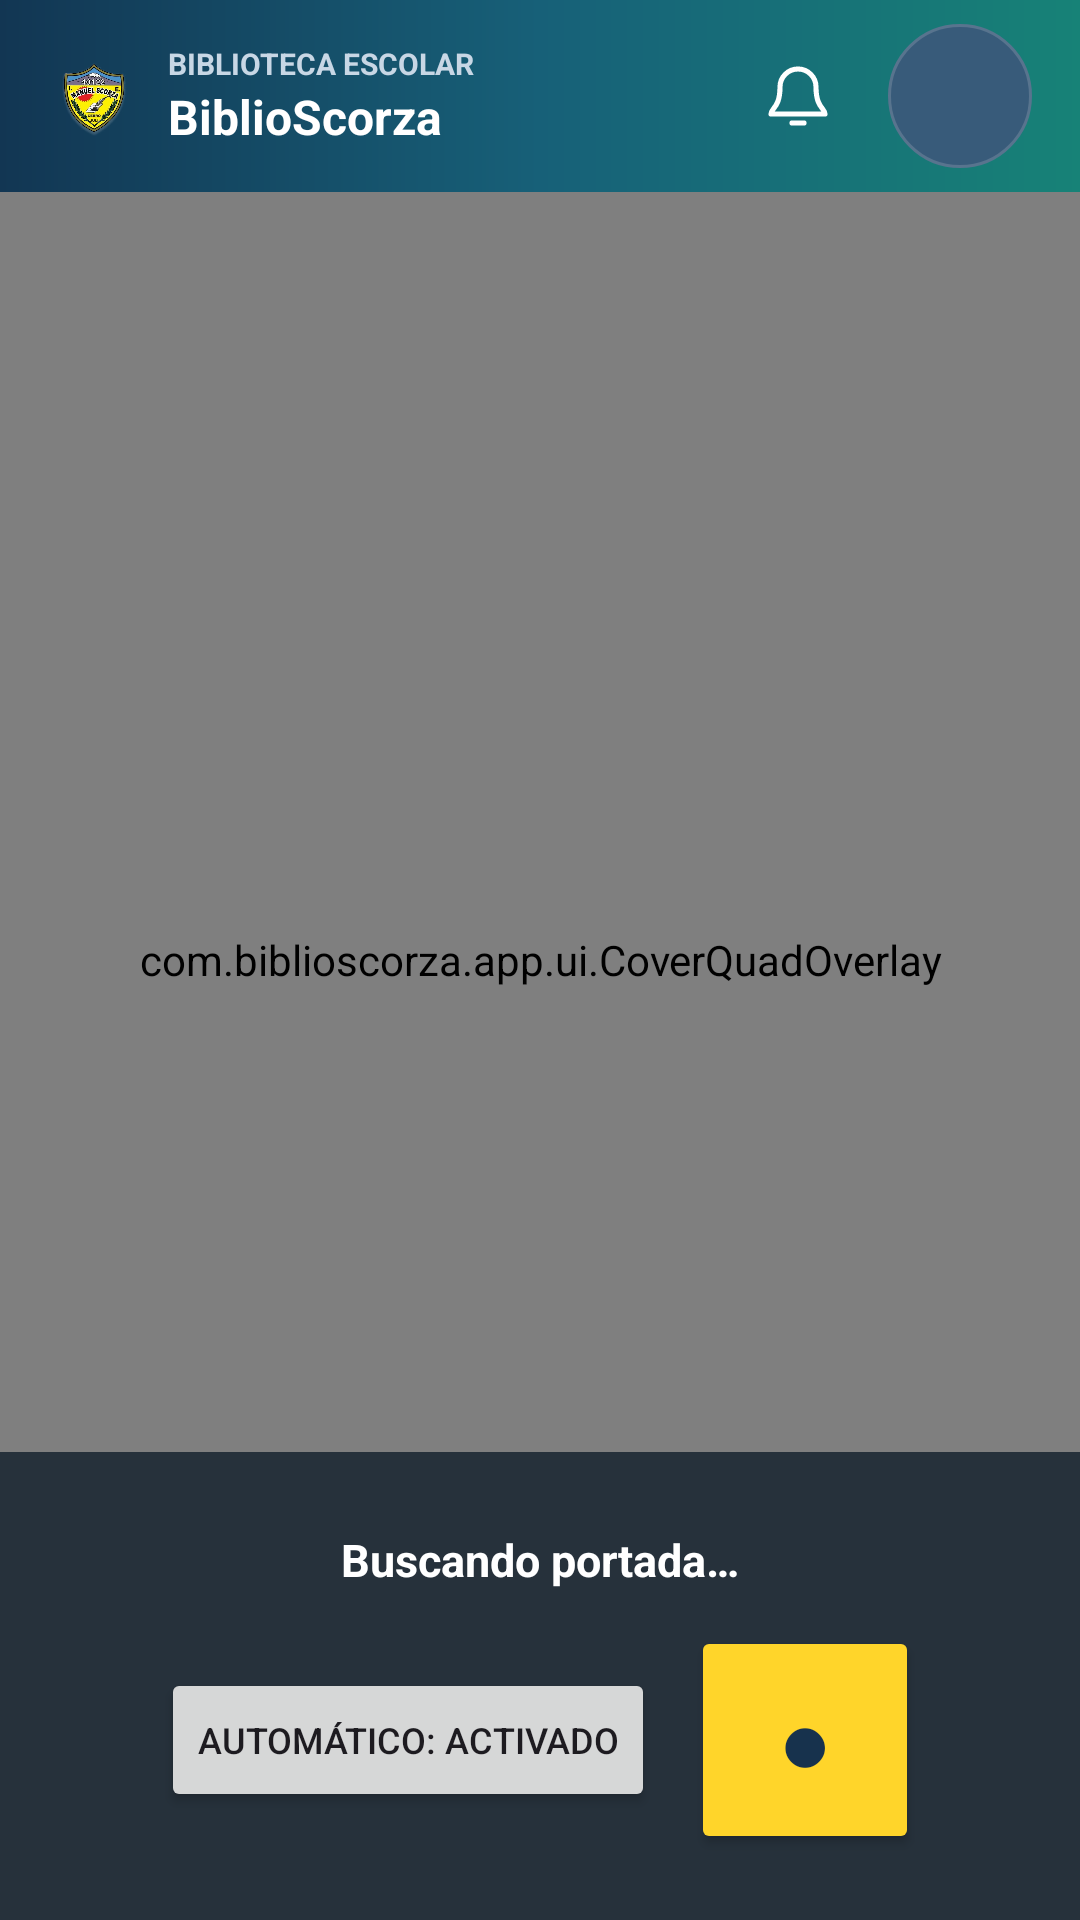

Where to tap for icons on this 1080 × 1920 app screen, as point (x, y):
notifications: point (798, 96)
